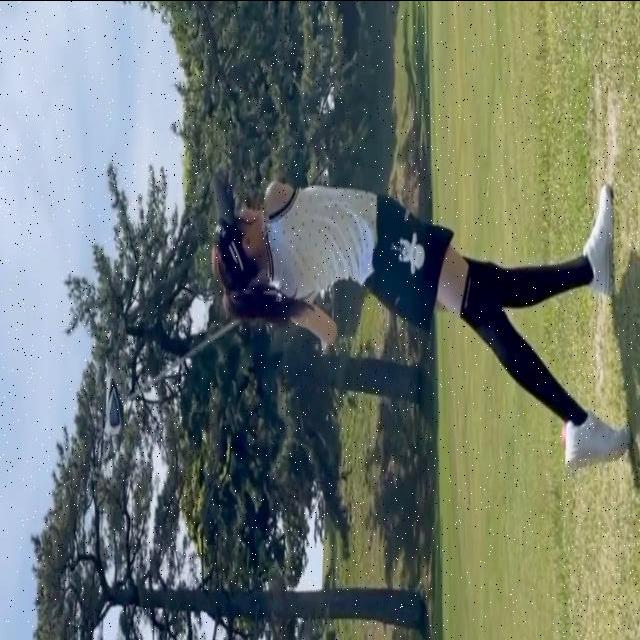ClubHandle: (102, 297, 278, 440)
ClubHead: (104, 374, 122, 436)
